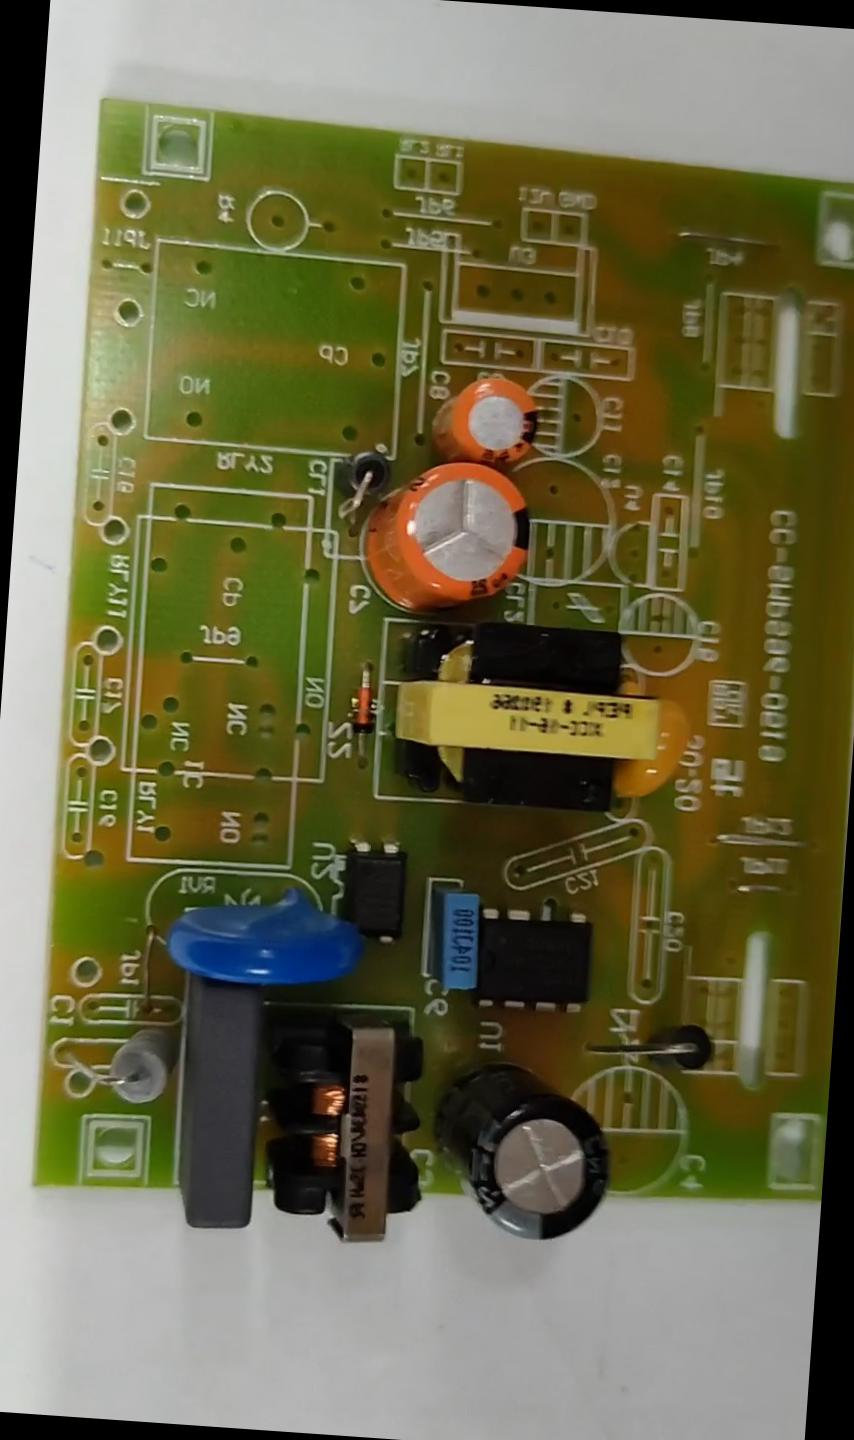Cap1: (355, 455, 537, 614)
Cap2: (429, 374, 542, 468)
Cap3: (439, 1058, 616, 1243)
MOSFET: (473, 905, 589, 1012)
Mov: (162, 891, 352, 994)
Resistor: (94, 1021, 176, 1111)
Transformer: (387, 613, 659, 807), (265, 1021, 430, 1250)
